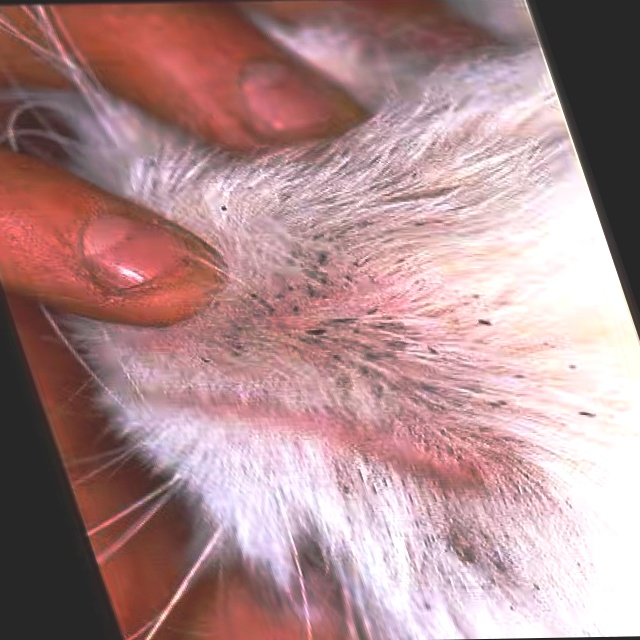acne: (156, 285, 606, 431)
